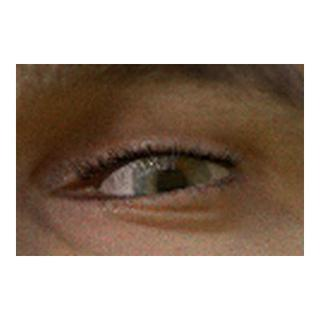pupil: (158, 170, 187, 199)
